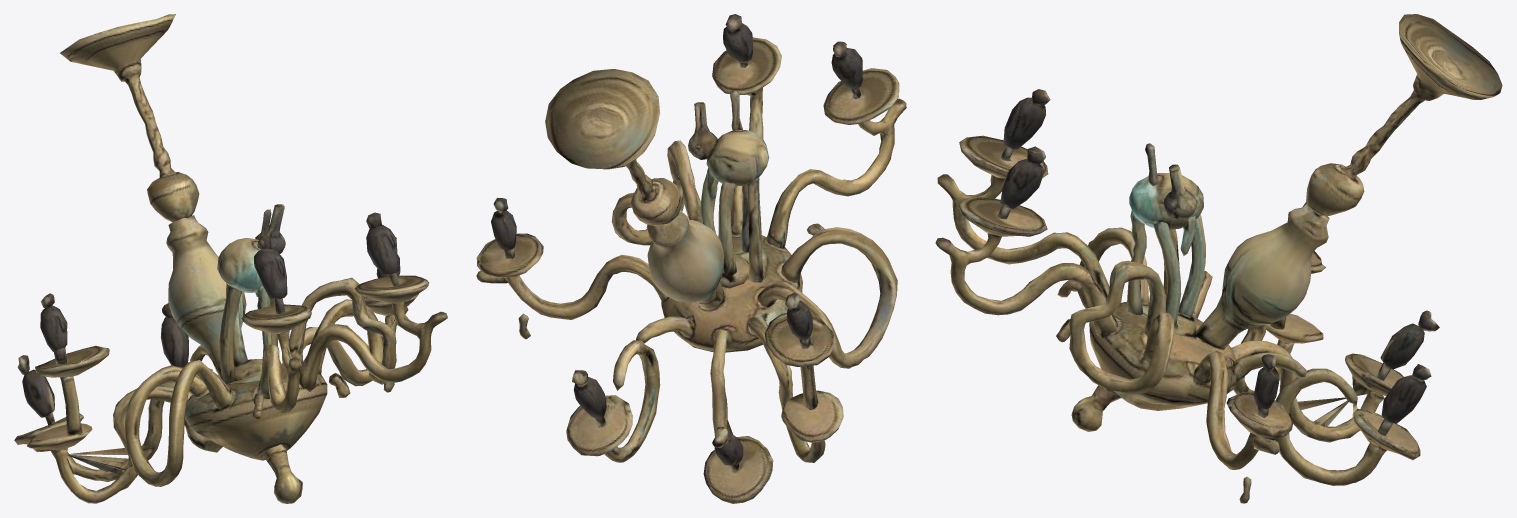
The model's file is cs_lustre.glb.
3 renders of one model, left to right at view 1: azimuth 30°, elevation 25°; view 2: azimuth 150°, elevation 25°; view 3: azimuth 270°, elevation 25°, orthographic. The views are drawn at different scales.
Visible parts, largest first — view 1: mesh_node.002; view 2: mesh_node.002; view 3: mesh_node.002.
Part boxes in pixels (x1=…): mesh_node.002: x1=14, y1=14, x2=447, y2=503; mesh_node.002: x1=476, y1=14, x2=906, y2=503; mesh_node.002: x1=935, y1=14, x2=1502, y2=503.
Bounding box in the file's own units: 0.4165 × 0.4521 × 0.5127.
1 material, 1 textured.
